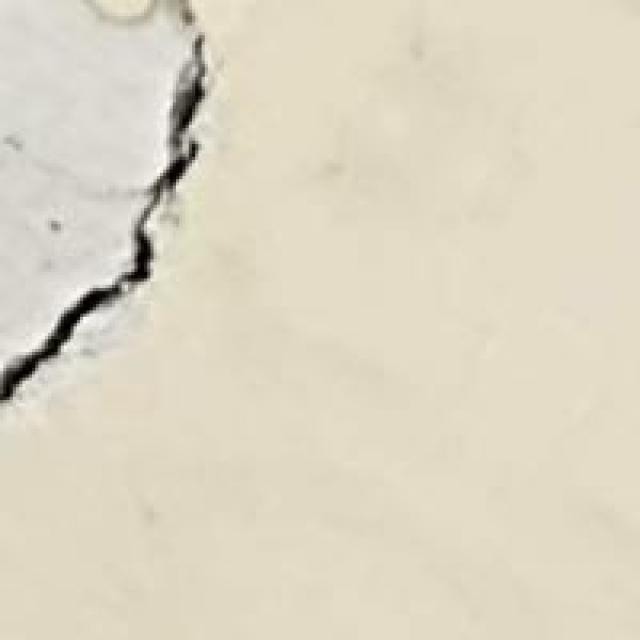crack: (3, 3, 256, 410)
